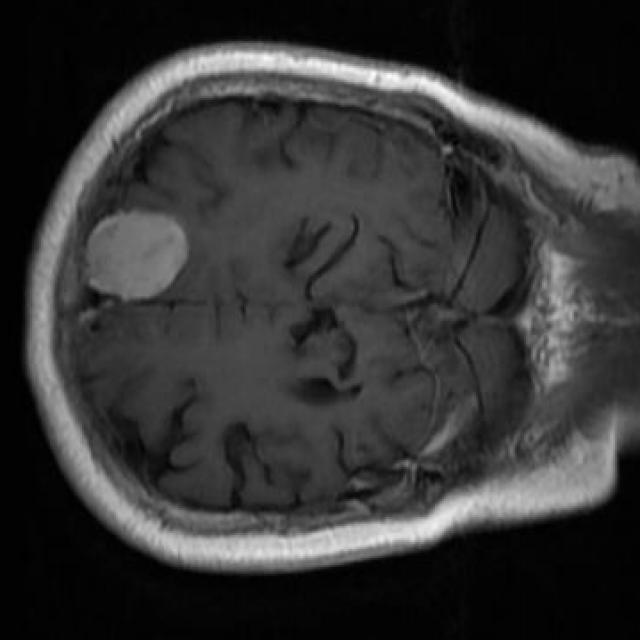meningioma: (82, 210, 187, 305)
